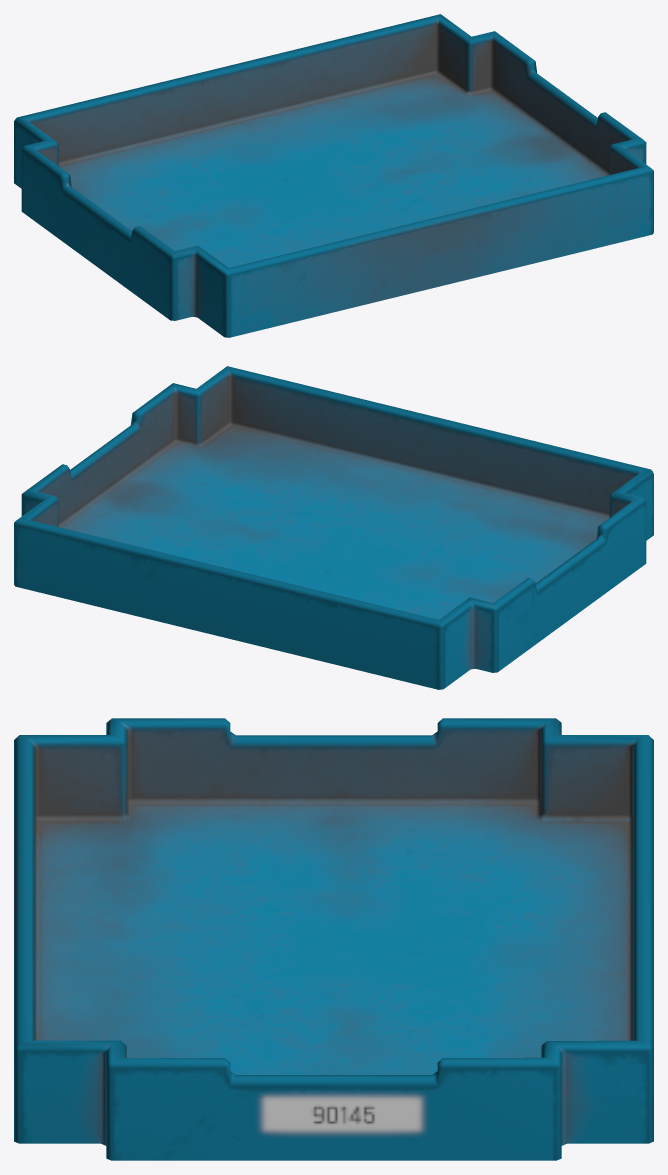
Rendered from SM_Blue_Tray.fbx.
The picture shows the model from 3 angles, top to bottom: view 1: azimuth 30°, elevation 25°; view 2: azimuth 150°, elevation 25°; view 3: azimuth 270°, elevation 25°; orthographic projection. The views are drawn at different scales.
Visible parts, largest first — view 1: SM_Blue_Tray_LOD0; view 2: SM_Blue_Tray_LOD0; view 3: SM_Blue_Tray_LOD0.
Boxes of the visible parts, left/top/right/bottom form: SM_Blue_Tray_LOD0: left=14, top=14, right=653, bottom=337; SM_Blue_Tray_LOD0: left=14, top=366, right=653, bottom=689; SM_Blue_Tray_LOD0: left=14, top=718, right=653, bottom=1160.
Size of the model in its own units: 30.19 by 23.51 by 3.94.
1 material, 1 textured.
